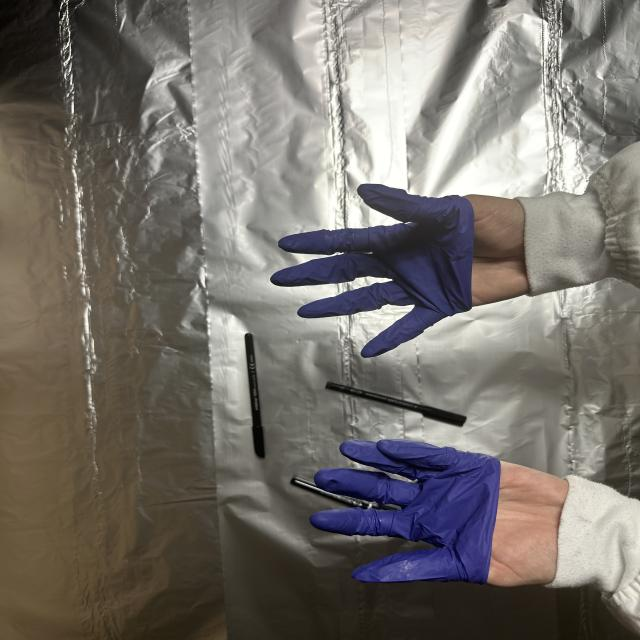glove_partial: (274, 177, 541, 363), (310, 437, 570, 588)
